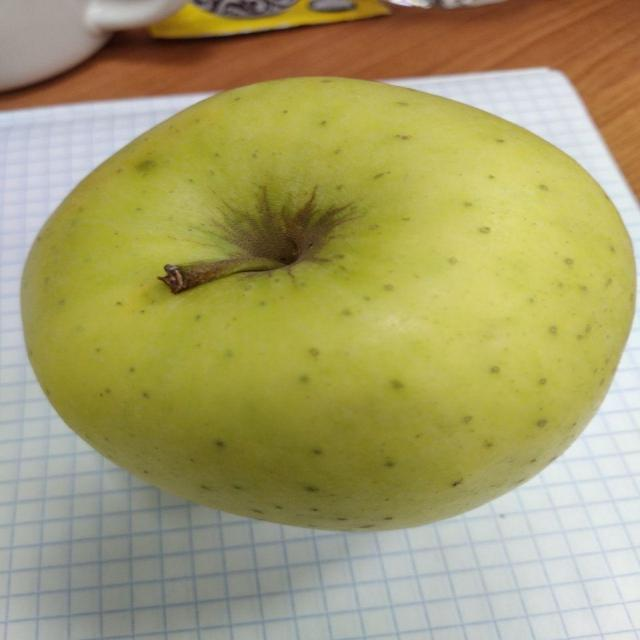Rotten Apple: (18, 75, 634, 537)
